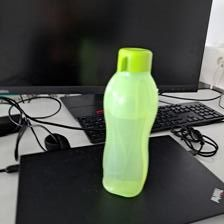bottle: (101, 44, 159, 195)
